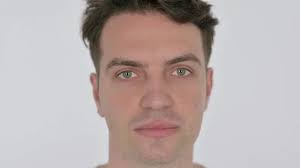Human_Male: (81, 4, 214, 165)
